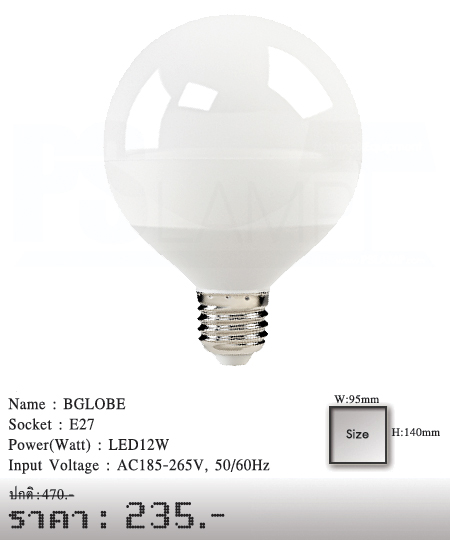Light_bulb: (91, 5, 375, 381)
